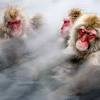monkey: (61, 8, 100, 94), (1, 2, 29, 47)
